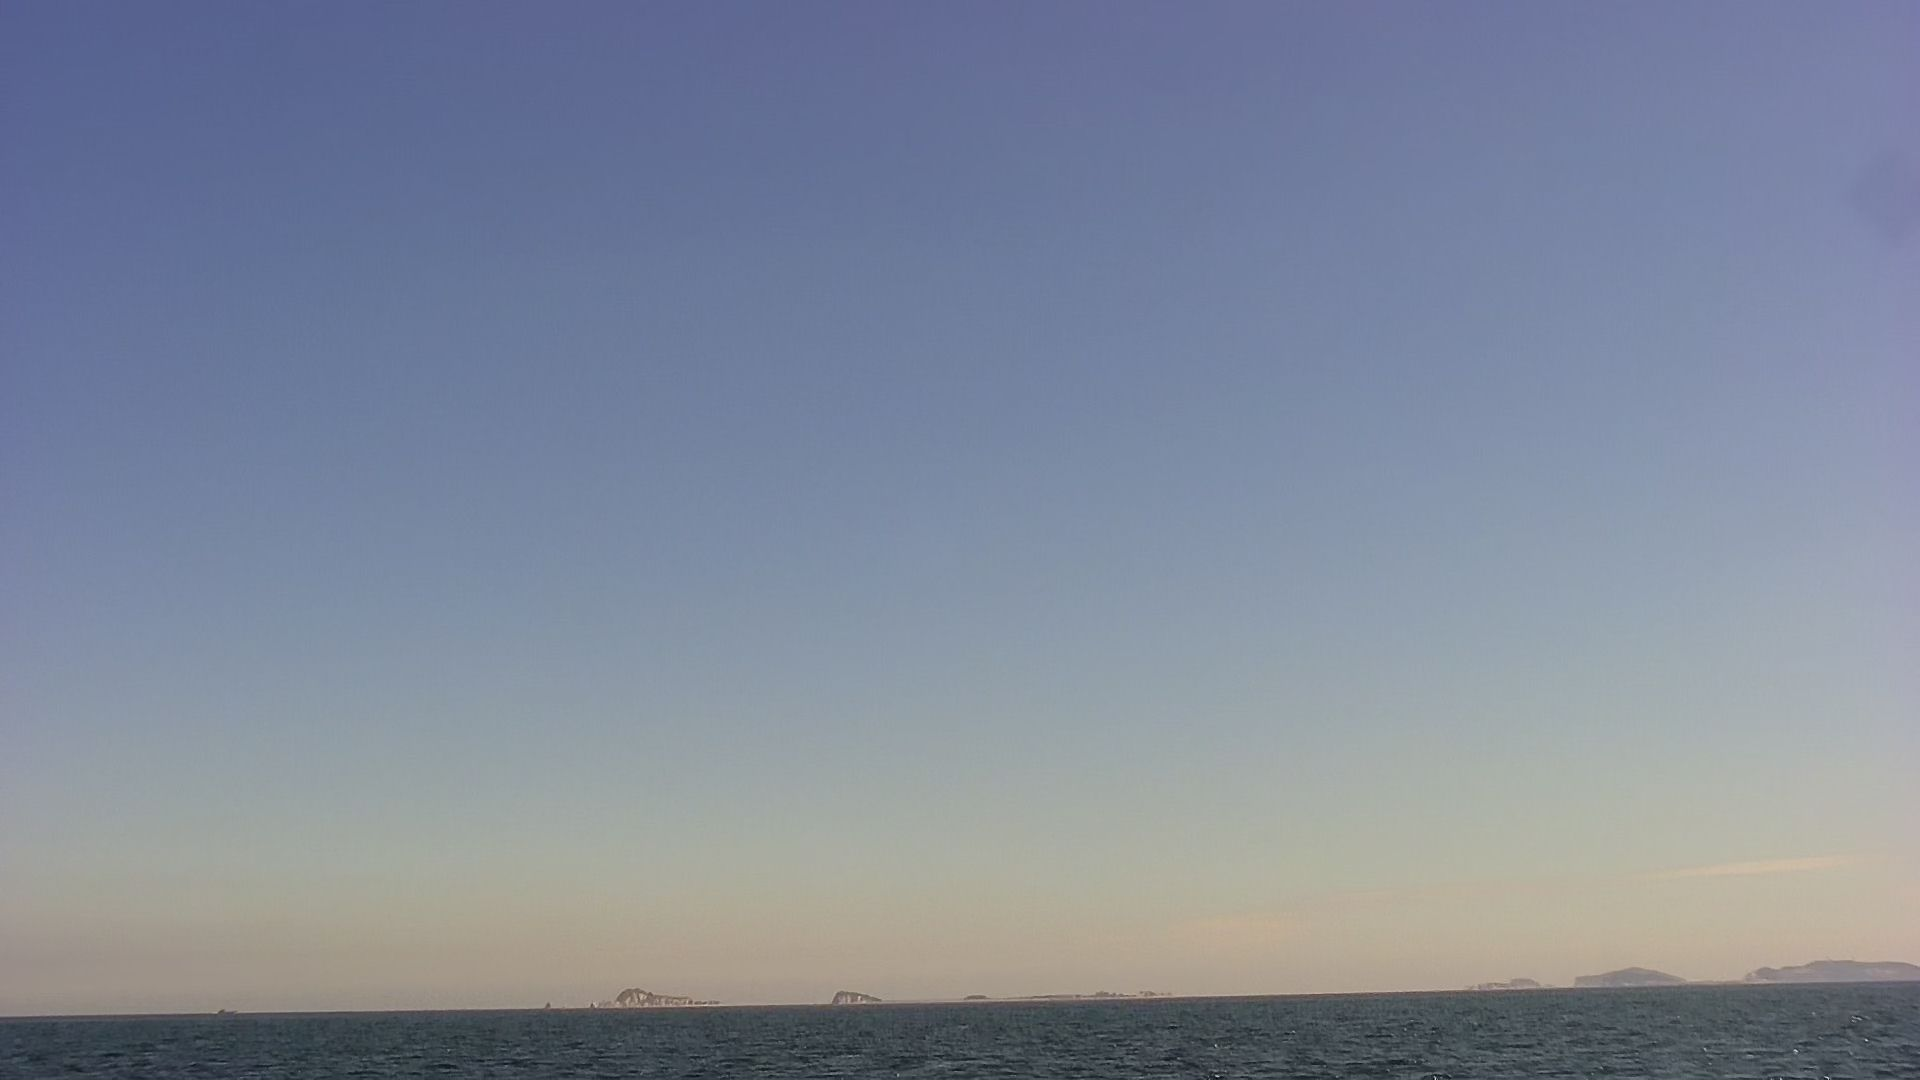rock: (1738, 953, 1920, 986), (582, 985, 728, 1010), (1561, 960, 1698, 986), (819, 982, 897, 1013), (1466, 972, 1545, 1001)
